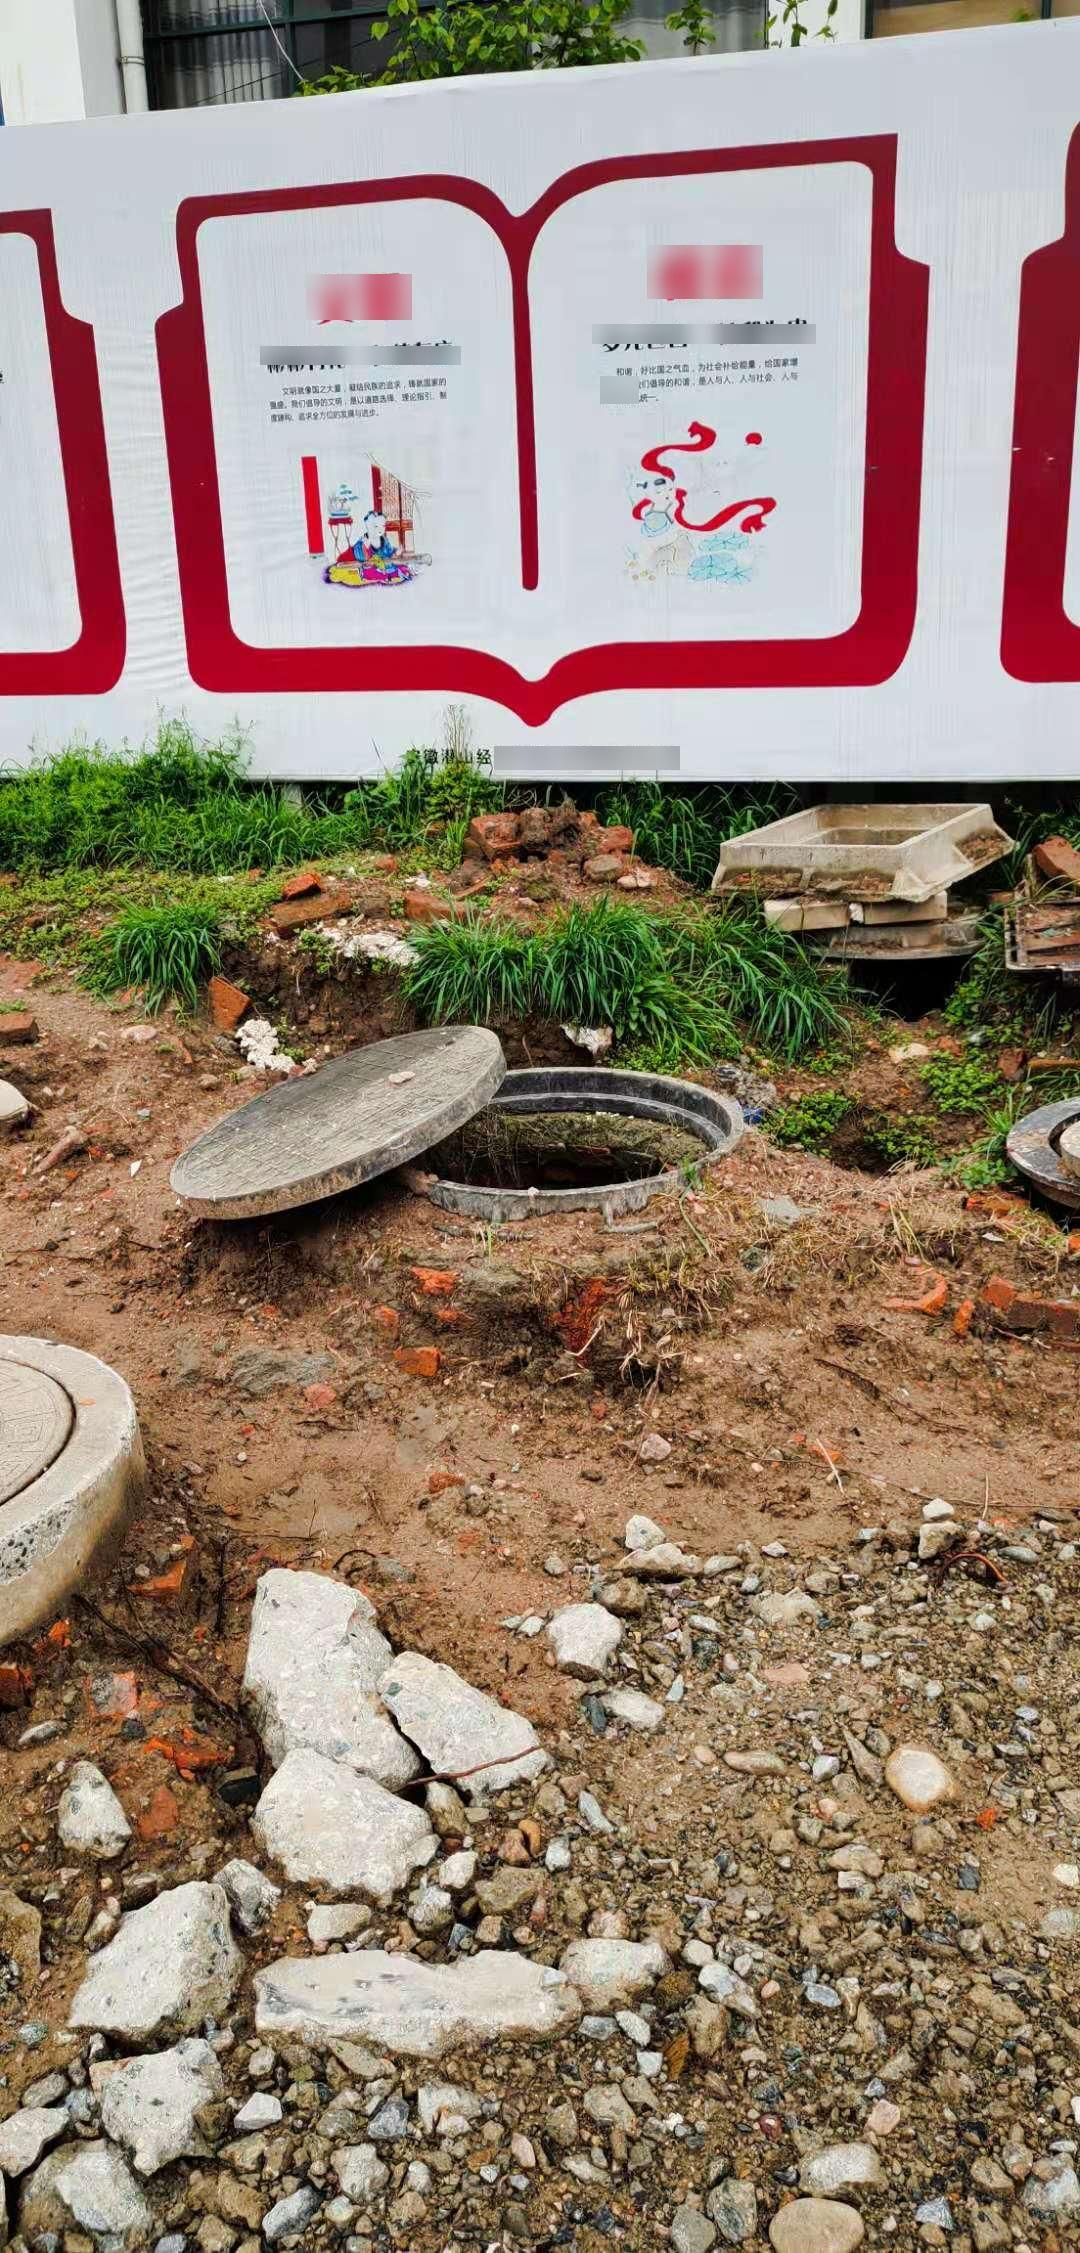wellcover: (188, 1012, 748, 1285)
